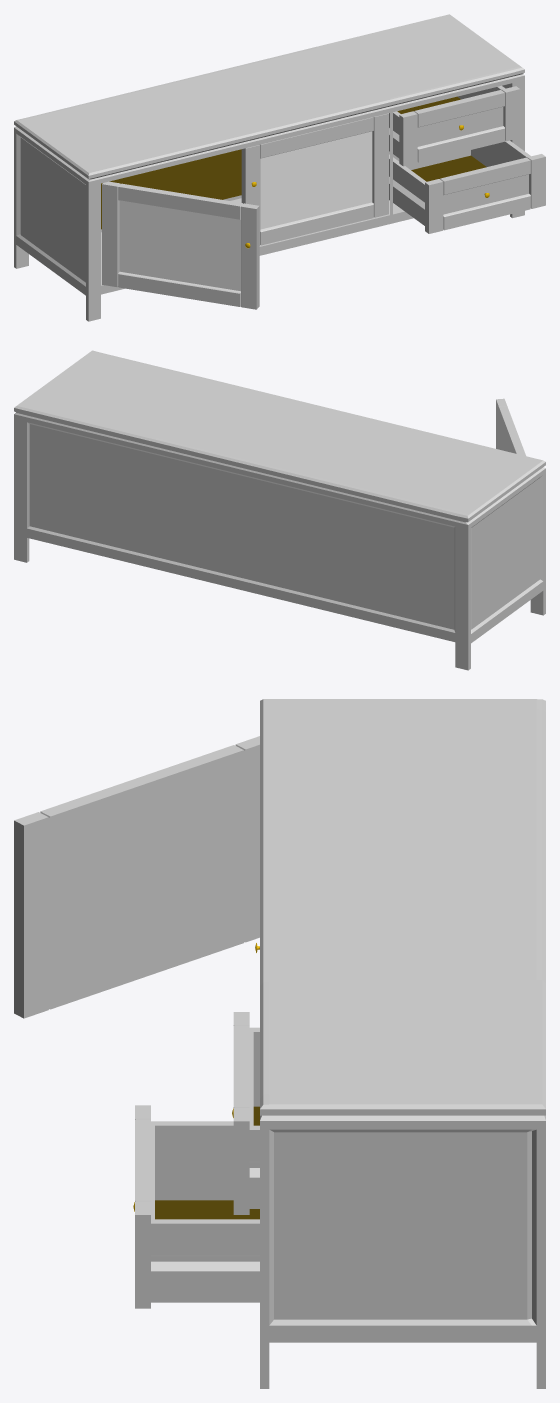
The picture shows the model from 3 angles, top to bottom: view 1: azimuth 30°, elevation 25°; view 2: azimuth 150°, elevation 25°; view 3: azimuth 270°, elevation 25°; orthographic projection. The views are drawn at different scales.
Visible parts, largest first — view 1: rack, doorLeft, doorRight, drawerDown, drawerUp, shelf; view 2: rack, doorLeft; view 3: rack, doorLeft, drawerDown, drawerUp.
Boxes of the visible parts, x1=… form: rack: x1=14, y1=14, x2=524, y2=321; doorLeft: x1=102, y1=181, x2=259, y2=309; doorRight: x1=241, y1=113, x2=388, y2=245; drawerDown: x1=389, y1=140, x2=545, y2=233; drawerUp: x1=389, y1=85, x2=520, y2=166; shelf: x1=101, y1=149, x2=241, y2=232; rack: x1=14, y1=350, x2=545, y2=670; doorLeft: x1=496, y1=398, x2=525, y2=455; rack: x1=260, y1=699, x2=545, y2=1388; doorLeft: x1=14, y1=736, x2=259, y2=1018; drawerDown: x1=133, y1=1105, x2=259, y2=1308; drawerUp: x1=232, y1=1012, x2=259, y2=1214.
Bounding box in the file's own units: 15.2 × 4.91 × 8.37.
